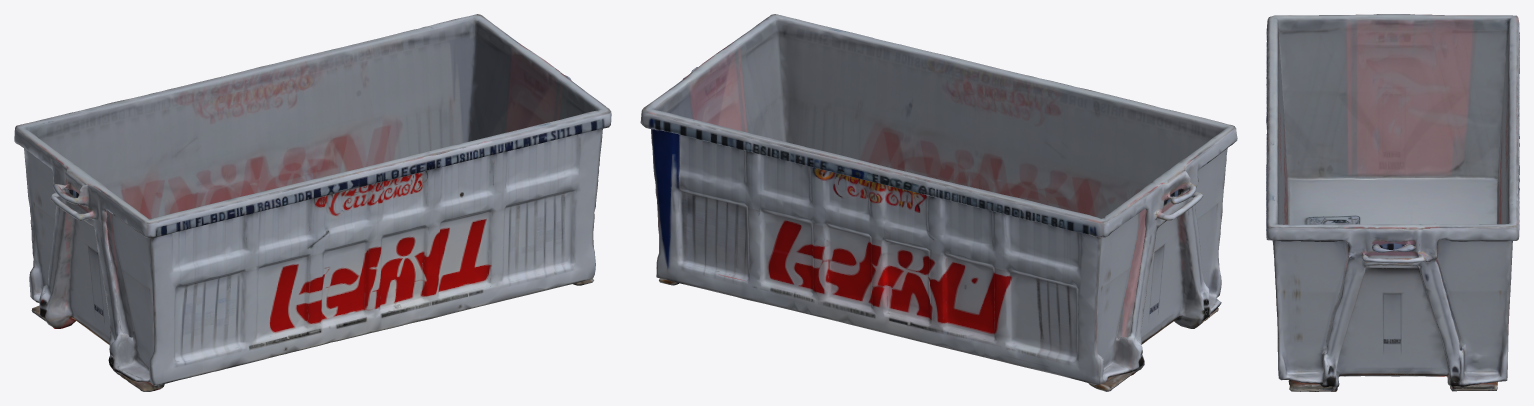
File: rolloff-12m3.glb
3 renders of one model, left to right at view 1: azimuth 30°, elevation 25°; view 2: azimuth 150°, elevation 25°; view 3: azimuth 270°, elevation 25°, orthographic. The views are drawn at different scales.
Bounding box in the file's own units: 2.02 × 0.6931 × 0.9408.
Materials: 1 (1 with a texture image).
